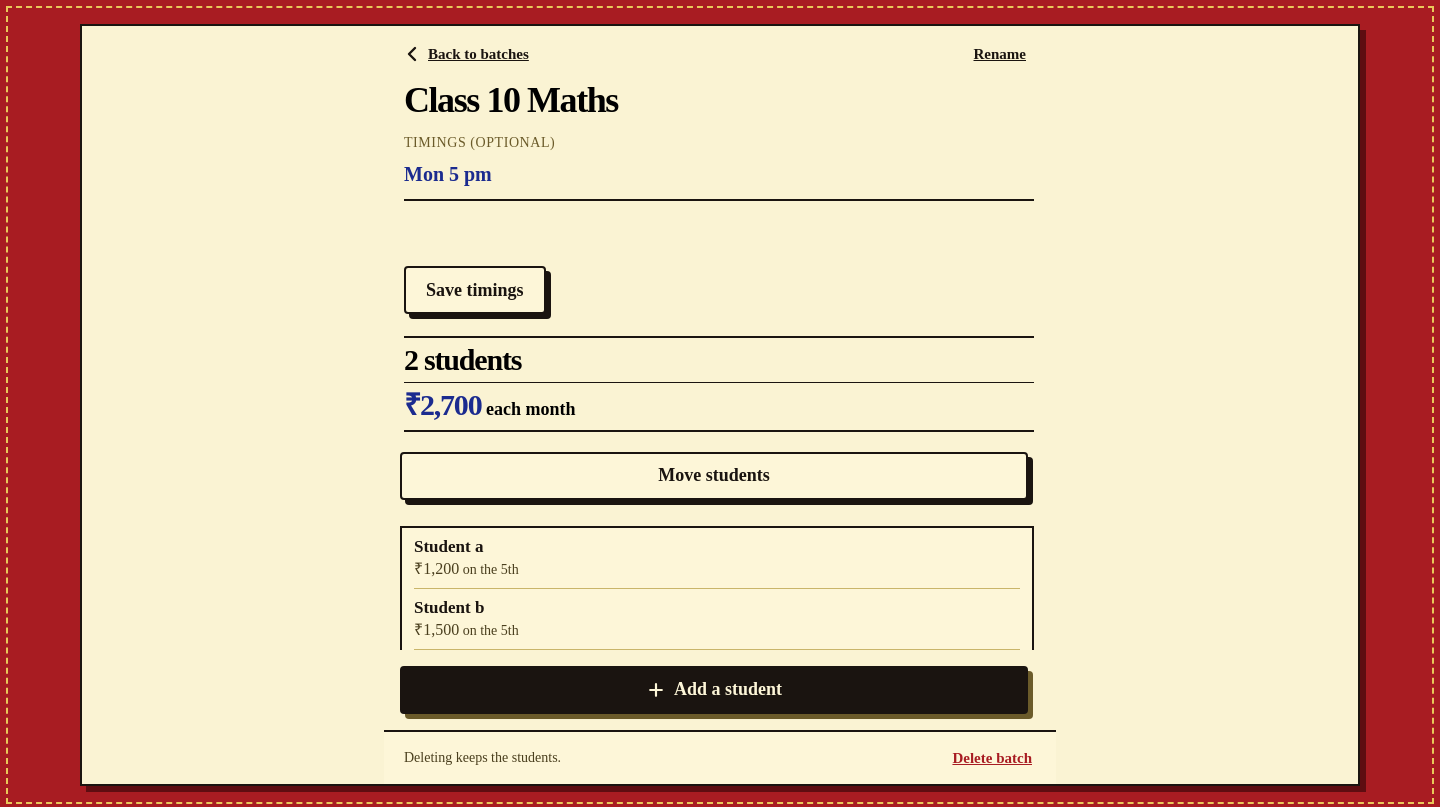
rename and timings (42, 46) › turns the name into a field with Save and Cancel, and Cancel puts the title back unchanged
Click the button "Rename": (1000, 54) left=966, top=32, right=1034, bottom=76
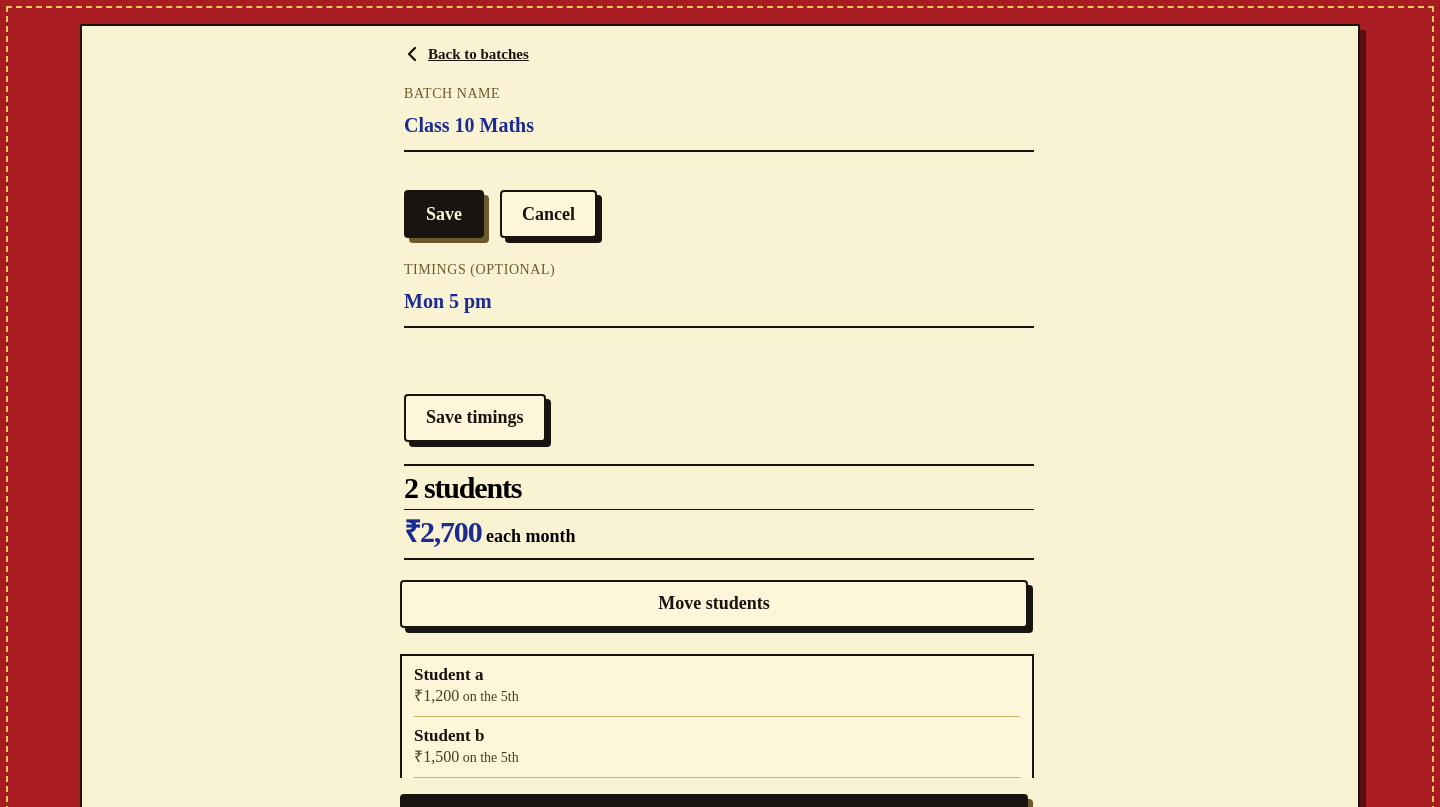
Check: the text box labelled "Batch name" holds "Class 10 Maths"
Replace the text in the text box labelled "Batch name" with "Changed": (719, 126) left=404, top=104, right=1034, bottom=148
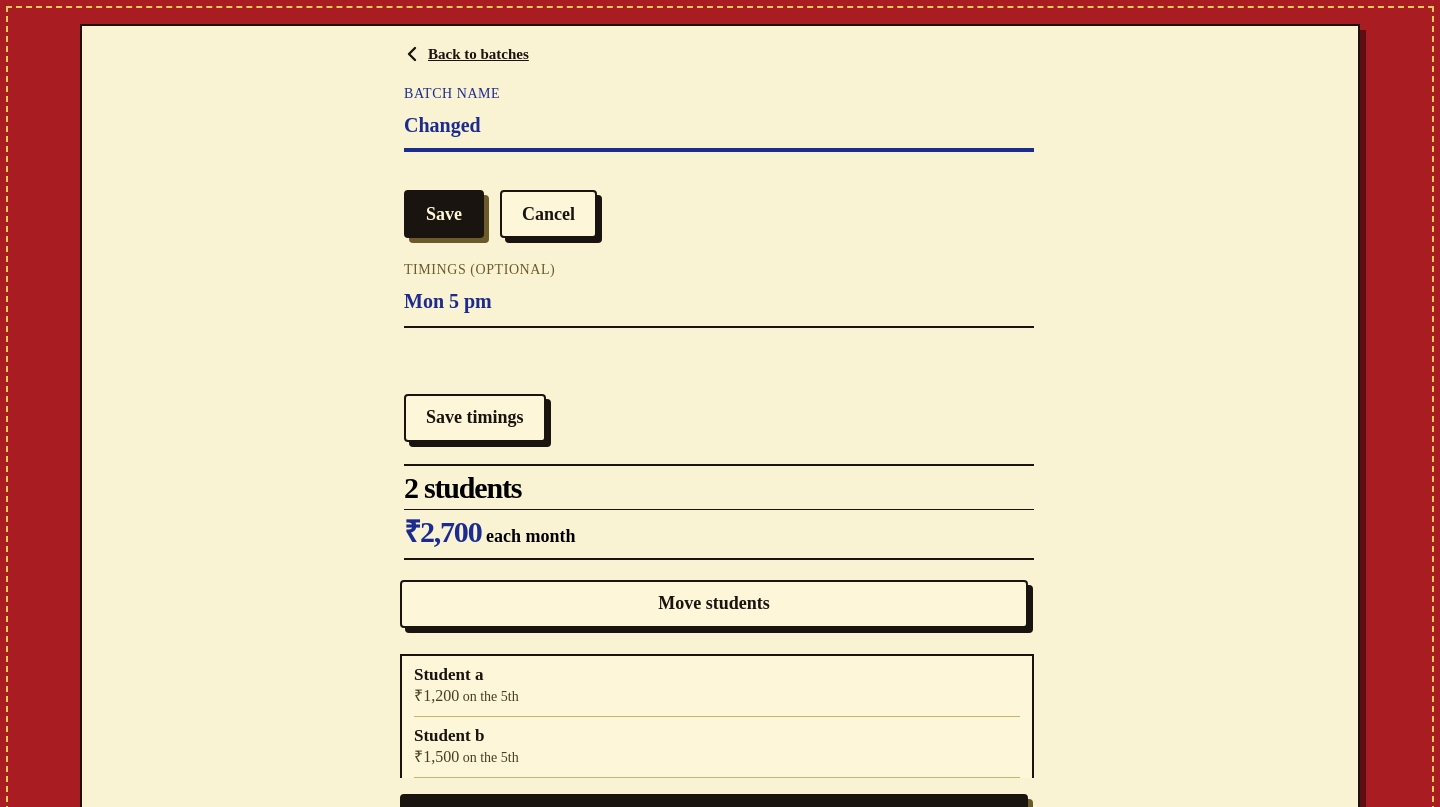
Click the button "Cancel": (548, 214) left=500, top=190, right=597, bottom=238
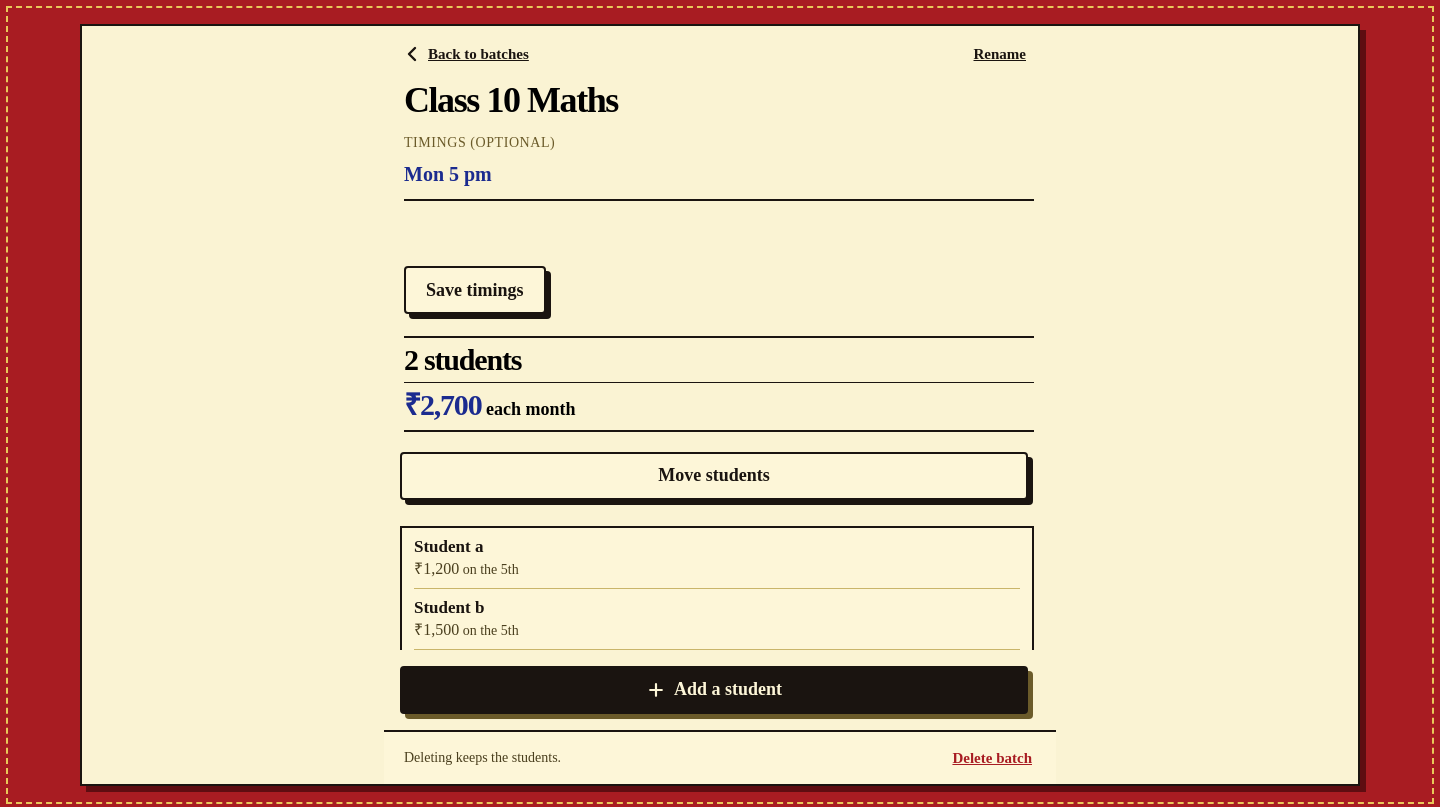
Check: the heading reads "Class 10 Maths", box left=404, top=80, right=618, bottom=120
